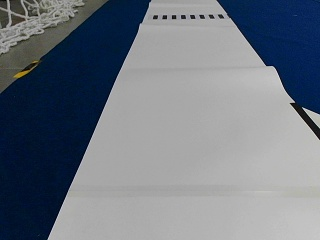crosswalk: (153, 13, 224, 19)
